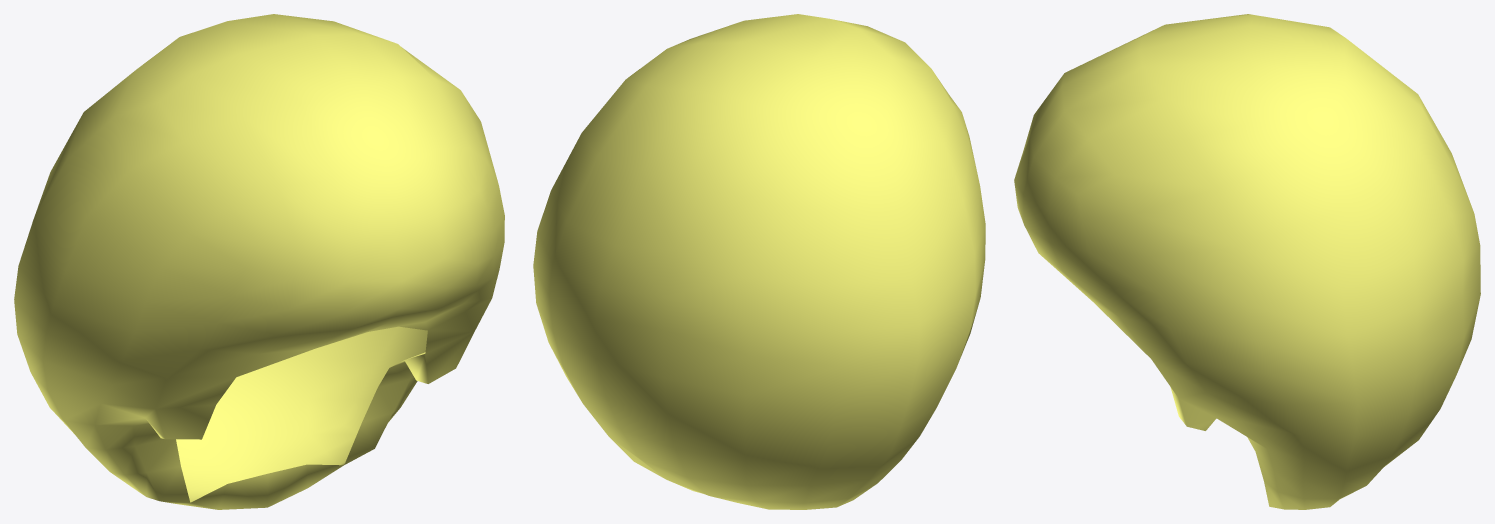
File: NPC_BlondeHair.gltf
The picture shows the model from 3 angles, left to right: view 1: azimuth 30°, elevation 25°; view 2: azimuth 150°, elevation 25°; view 3: azimuth 270°, elevation 25°; orthographic projection. The views are drawn at different scales.
Visible parts, largest first — view 1: NPC_BlondeHair.001; view 2: NPC_BlondeHair.001; view 3: NPC_BlondeHair.001.
Part boxes in pixels (x1=…): NPC_BlondeHair.001: x1=14, y1=14, x2=504, y2=509; NPC_BlondeHair.001: x1=533, y1=14, x2=985, y2=509; NPC_BlondeHair.001: x1=1014, y1=14, x2=1480, y2=509.
Bounding box in the file's own units: 0.7566 × 0.7696 × 0.7317.
1 material, 1 textured.
